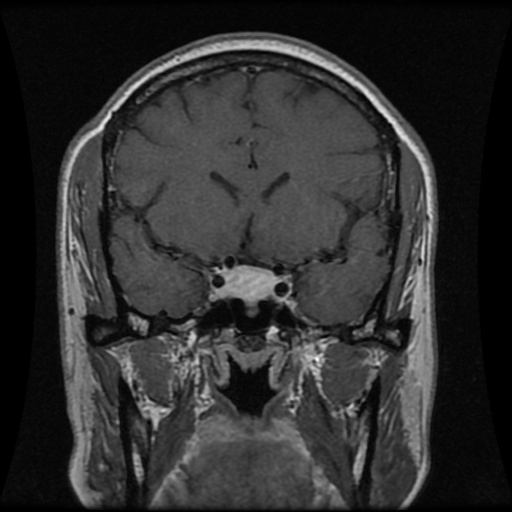pituitary: (220, 266, 274, 311)
